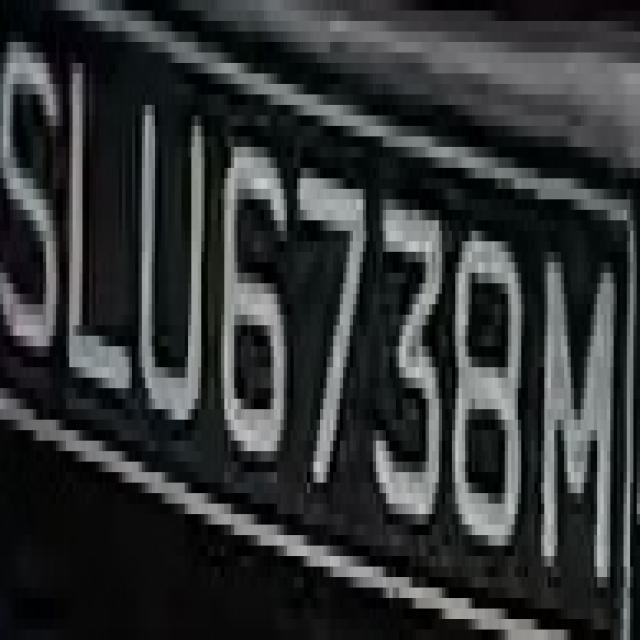3: (373, 189, 455, 577)
6: (211, 74, 290, 504)
7: (287, 105, 369, 504)
8: (442, 189, 531, 545)
L: (69, 63, 132, 420)
M: (531, 210, 627, 587)
S: (10, 0, 66, 409)
U: (139, 84, 211, 472)
